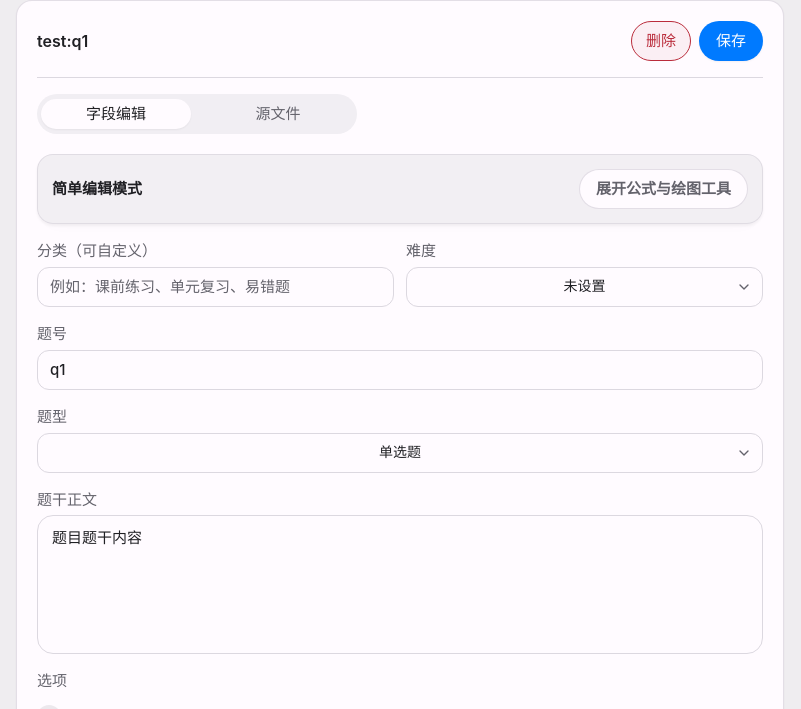
BankQuestionEditorPanel User Journeys › Single Question Mode › renders question details and mode switch without exposing its storage path
Expected: the text "test:q1" is shown, x1=37 y1=31 x2=88 y2=51
Expected: the text "简单编辑模式" is shown, x1=52 y1=178 x2=142 y2=200
Click the button "展开公式与绘图工具". click: (664, 189)
box: x1=579 y1=169 x2=748 y2=209
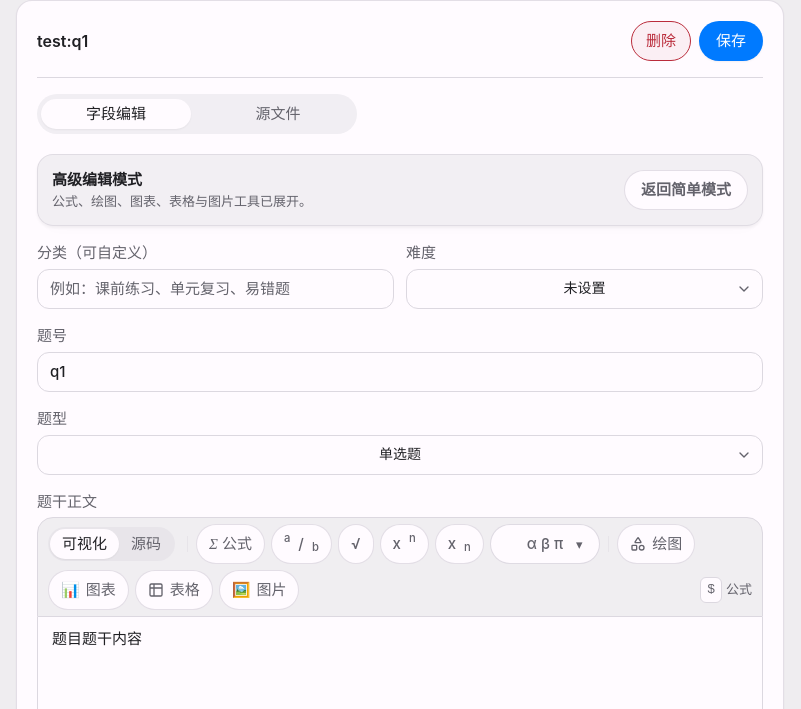
Expected: the text "高级编辑模式" is shown, x1=52 y1=170 x2=142 y2=189
Expected: the button "返回简单模式" is shown, x1=624 y1=170 x2=748 y2=210
